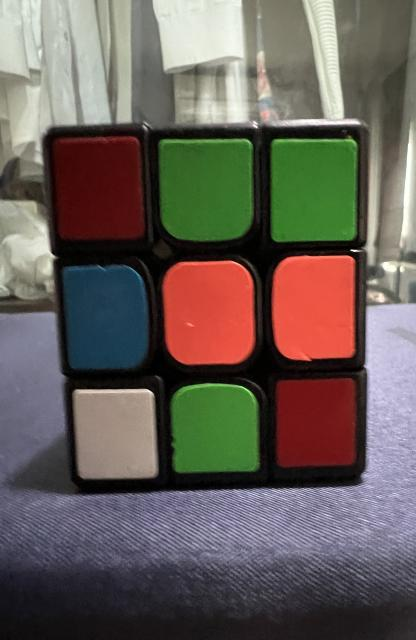Blue: (62, 265, 150, 370)
Green: (158, 139, 255, 242), (271, 139, 358, 242), (170, 384, 260, 474)
Orange: (162, 260, 256, 365), (272, 255, 355, 361)
Red: (53, 136, 145, 240), (276, 378, 356, 468)
White: (73, 389, 159, 480)
